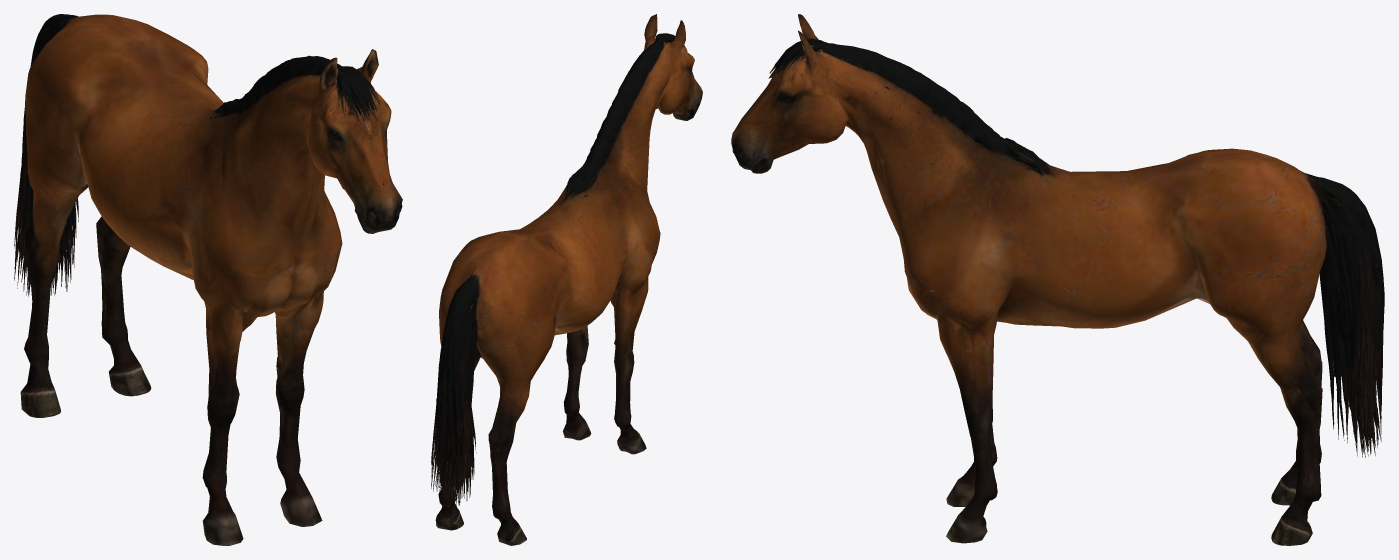
File: horse.glb
The picture shows the model from 3 angles, left to right: view 1: azimuth 30°, elevation 25°; view 2: azimuth 150°, elevation 25°; view 3: azimuth 270°, elevation 25°; orthographic projection. The views are drawn at different scales.
Parts seen in each view (by area): view 1: horse; view 2: horse; view 3: horse.
Boxes of the visible parts, x1,y1,x2,y2 form: horse: (14,14,402,545); horse: (431,14,702,545); horse: (731,14,1384,545).
Bounding box in the file's own units: 0.5762 × 2.01 × 2.4.
Materials: 1 (1 with a texture image).
